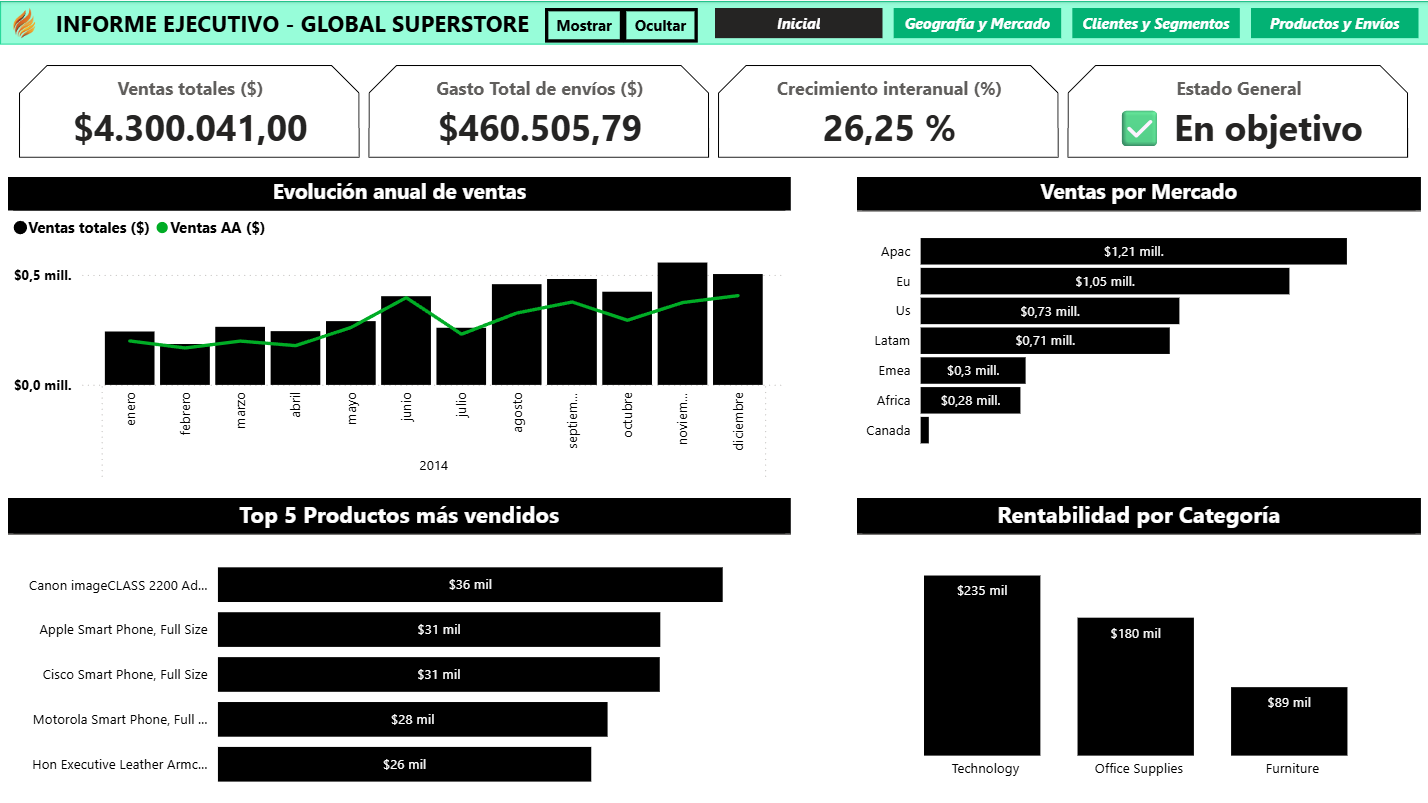

The dashboard page shown, as its layout file describes it:
{"tool":"powerbi","page":{"name":"Inicial","canvas":[1280,720],"ordinal":0},"visuals":[{"type":"shape","box":[0,0,1280,39.2],"z":0,"group":"g1"},{"type":"cardVisual","fields":{"Data":["Metricas.KPI_Total_Ventas","Metricas.KPI_Total_Shipping","Metricas.KPI_Crecimiento_YoY_%","Metricas.KPI_Estado_General"]},"box":[0,40.2,1280,117.5],"z":0},{"type":"group","id":"g1","title":"Grupo 1","box":[0,0,1280,40.2],"z":1000},{"type":"image","box":[0,0,42.3,40.2],"z":1000,"group":"g1"},{"type":"pageNavigator","box":[640,6.2,632.8,27.8],"z":2000,"group":"g1"},{"type":"lineClusteredColumnComboChart","title":"Evolución anual de ventas","fields":{"Category":["Dim_Date.Jerarquía de fecha.Año","Dim_Date.Jerarquía de fecha.Mes","Dim_Date.Jerarquía de fecha.Día"],"Y":["Metricas.KPI_Total_Ventas"],"Y2":["Metricas.KPI_Ventas_LY"]},"box":[7.2,157.7,700.8,280.3],"z":2000},{"type":"clusteredBarChart","title":"Ventas por Mercado","fields":{"Category":["Dim_Geography.Market"],"Y":["Metricas.KPI_Total_Ventas"]},"box":[767.8,157.7,505,253.5],"z":3000},{"type":"columnChart","title":"Rentabilidad por Categoría","fields":{"Category":["Dim_Product.Category"],"Y":["Metricas.KPI_Total_Profit"]},"box":[767.8,445.2,505,259.7],"z":4000},{"type":"clusteredBarChart","title":"Top 5 Productos más vendidos","fields":{"Category":["Dim_Product.Product_Name"],"Y":["Metricas.KPI_Total_Ventas"]},"box":[7.2,445.2,700.8,275.2],"z":5000},{"type":"group","id":"g2","title":"Filtros Activar","box":[488,6,304,337],"z":7000},{"type":"actionButton","title":"Mostrar","box":[488,6,70,31],"z":9000,"group":"g2"},{"type":"actionButton","title":"Ocultar","box":[558,6,67,31],"z":10000,"group":"g2"}]}

Visuals, with their boxes in screenshot pixels (x1, y1, x2, y2), scaled from the page's 1280x720 canvas onto the 1428x803 screenshot:
shape: [x1=0, y1=0, x2=1427, y2=44]
cardVisual - Metricas.KPI_Total_Ventas x Metricas.KPI_Total_Shipping: [x1=0, y1=45, x2=1427, y2=176]
"Grupo 1" group: [x1=0, y1=0, x2=1427, y2=45]
image: [x1=0, y1=0, x2=47, y2=45]
pageNavigator: [x1=714, y1=7, x2=1420, y2=38]
"Evolución anual de ventas" lineClusteredColumnComboChart: [x1=8, y1=176, x2=790, y2=488]
"Ventas por Mercado" clusteredBarChart: [x1=857, y1=176, x2=1420, y2=459]
"Rentabilidad por Categoría" columnChart: [x1=857, y1=497, x2=1420, y2=786]
"Top 5 Productos más vendidos" clusteredBarChart: [x1=8, y1=497, x2=790, y2=802]
"Filtros Activar" group: [x1=544, y1=7, x2=884, y2=383]
"Mostrar" actionButton: [x1=544, y1=7, x2=623, y2=41]
"Ocultar" actionButton: [x1=623, y1=7, x2=697, y2=41]
